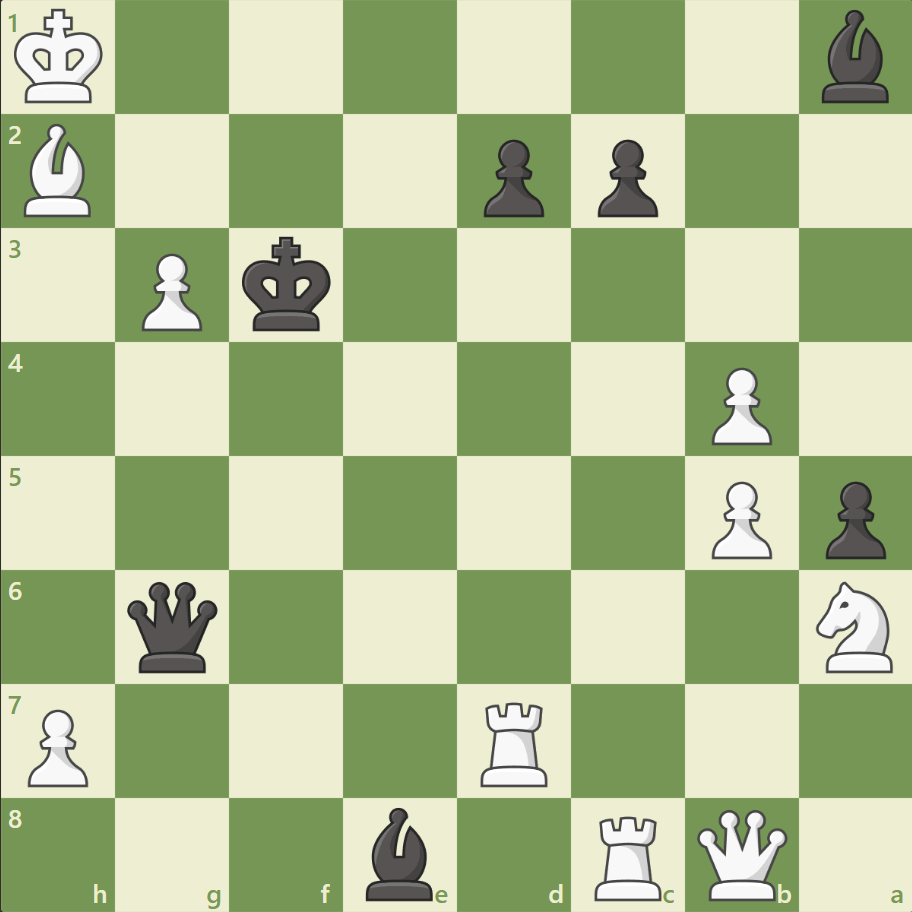B: (17, 120, 101, 222)
K: (11, 4, 111, 112)
N: (806, 575, 903, 677)
P: (20, 700, 95, 791), (701, 473, 776, 564), (701, 359, 776, 450), (133, 246, 208, 337)
Q: (691, 804, 790, 903)
R: (587, 806, 670, 904), (473, 693, 556, 790)
b: (358, 801, 442, 904), (812, 6, 896, 109)
k: (238, 231, 338, 339)
p: (474, 132, 549, 223), (815, 473, 889, 564), (588, 132, 662, 223)
q: (124, 576, 223, 676)
